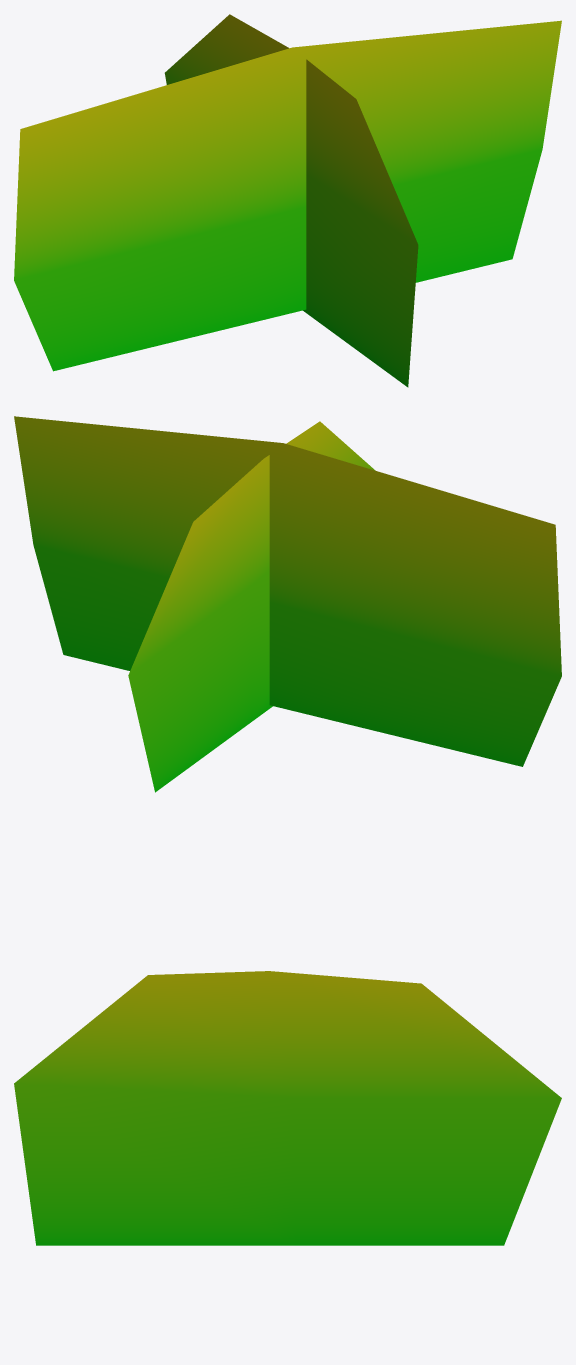
Rendered from Lingonberry_LOD5_Var16_wjhjahlqx.fbx.
3 renders of one model, top to bottom at view 1: azimuth 30°, elevation 25°; view 2: azimuth 150°, elevation 25°; view 3: azimuth 270°, elevation 25°, orthographic. The views are drawn at different scales.
Visible parts, largest first — view 1: _njyv_Var16_LOD5; view 2: _njyv_Var16_LOD5; view 3: _njyv_Var16_LOD5.
Part boxes in pixels (x1,y1,x2,y2): _njyv_Var16_LOD5: (14, 14, 561, 387); _njyv_Var16_LOD5: (14, 416, 561, 792); _njyv_Var16_LOD5: (14, 971, 561, 1245).
Size of the model in its own units: 31.88 by 14.95 by 25.57.
